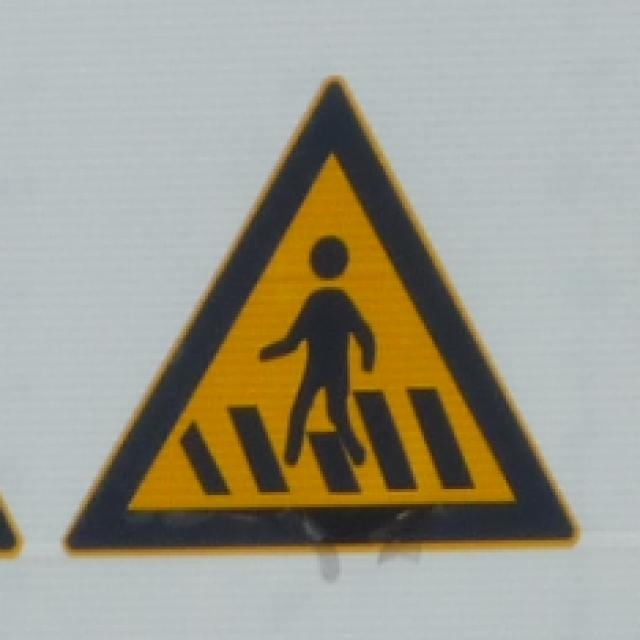Crossing: (63, 65, 602, 569)
